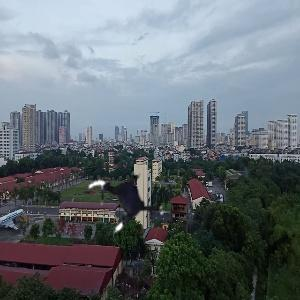drone: (83, 161, 170, 248)
